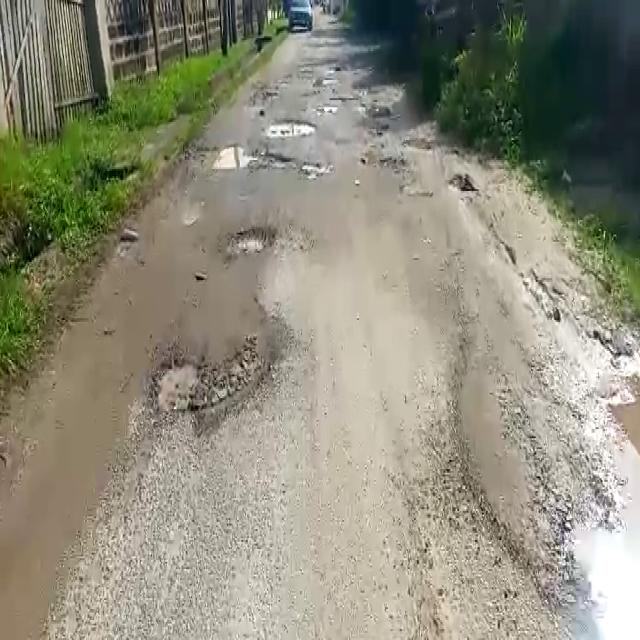Pothole: (564, 396, 640, 640), (150, 328, 287, 430), (214, 145, 302, 168), (225, 222, 281, 258), (262, 116, 318, 136), (298, 160, 329, 176)
